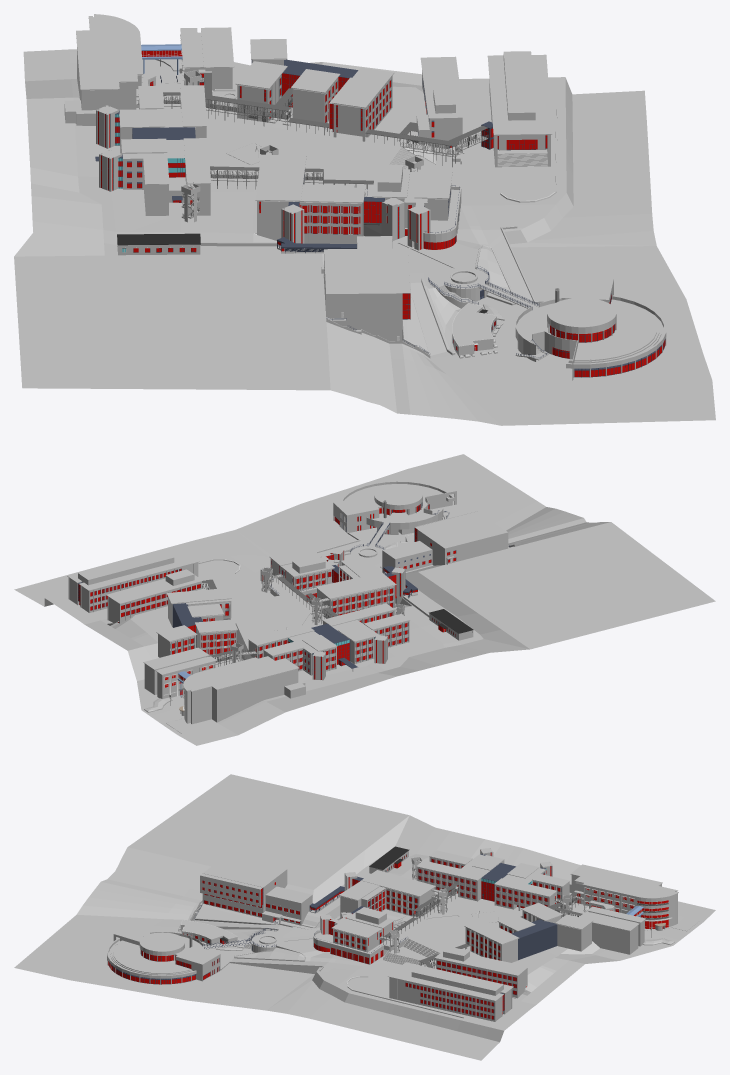
Rendered from kandaiComplete.fbx.
The picture shows the model from 3 angles, top to bottom: view 1: azimuth 30°, elevation 25°; view 2: azimuth 150°, elevation 25°; view 3: azimuth 270°, elevation 25°; orthographic projection. The views are drawn at different scales.
Parts seen in each view (by area): view 1: Terrain, B_Tou, C_Tou, A_Tou, L_Tou, K_Tou, E_tou, D_Tou, F_Tou, S_Tou, R_Tou; view 2: Terrain, K_Tou, A_Tou, B_Tou, L_Tou, E_tou, C_Tou, D_Tou, F_Tou, R_Tou; view 3: Terrain, B_Tou, K_Tou, A_Tou, E_tou, C_Tou, L_Tou, D_Tou, F_Tou, S_Tou, R_Tou.
Part boxes in pixels (x1,y1,x2,y2): Terrain: [14, 49, 715, 425]; B_Tou: [210, 145, 461, 250]; C_Tou: [163, 39, 488, 167]; A_Tou: [95, 70, 210, 222]; L_Tou: [515, 276, 666, 380]; K_Tou: [64, 14, 234, 125]; E_tou: [277, 236, 430, 358]; D_Tou: [481, 51, 552, 167]; F_Tou: [416, 56, 464, 155]; S_Tou: [452, 303, 496, 356]; R_Tou: [117, 233, 200, 255]; Terrain: [14, 454, 715, 745]; K_Tou: [143, 647, 305, 724]; A_Tou: [230, 603, 409, 680]; B_Tou: [260, 547, 405, 624]; L_Tou: [333, 481, 456, 534]; E_tou: [380, 511, 514, 598]; C_Tou: [156, 579, 253, 666]; D_Tou: [67, 546, 199, 612]; F_Tou: [106, 569, 202, 623]; R_Tou: [429, 609, 473, 640]; Terrain: [14, 774, 715, 1060]; B_Tou: [313, 870, 458, 964]; K_Tou: [569, 864, 678, 954]; A_Tou: [411, 848, 572, 915]; E_tou: [190, 855, 344, 925]; C_Tou: [419, 892, 592, 968]; L_Tou: [107, 931, 220, 984]; D_Tou: [388, 962, 513, 1021]; F_Tou: [435, 946, 528, 998]; S_Tou: [180, 920, 237, 945]; R_Tou: [369, 846, 409, 873].
Bounding box in the file's own units: 32460 × 2746 × 37108.
